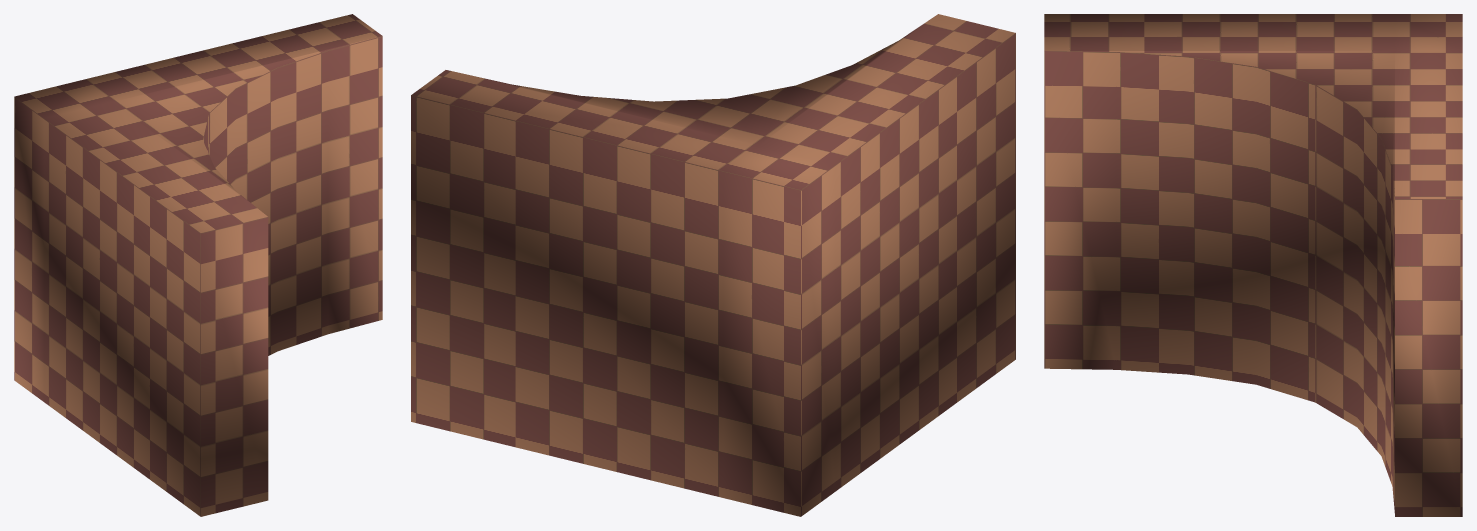
File: terraincurveDirt.fbx
The picture shows the model from 3 angles, left to right: view 1: azimuth 30°, elevation 25°; view 2: azimuth 150°, elevation 25°; view 3: azimuth 270°, elevation 25°; orthographic projection. The views are drawn at different scales.
Visible parts, largest first — view 1: Cube; view 2: Cube; view 3: Cube.
Boxes of the visible parts, x1,y1,x2,y2 form: Cube: [14, 14, 382, 516]; Cube: [411, 14, 1015, 516]; Cube: [1044, 14, 1462, 516].
Size of the model in its own units: 250 by 200 by 238.
1 material, 1 textured.
